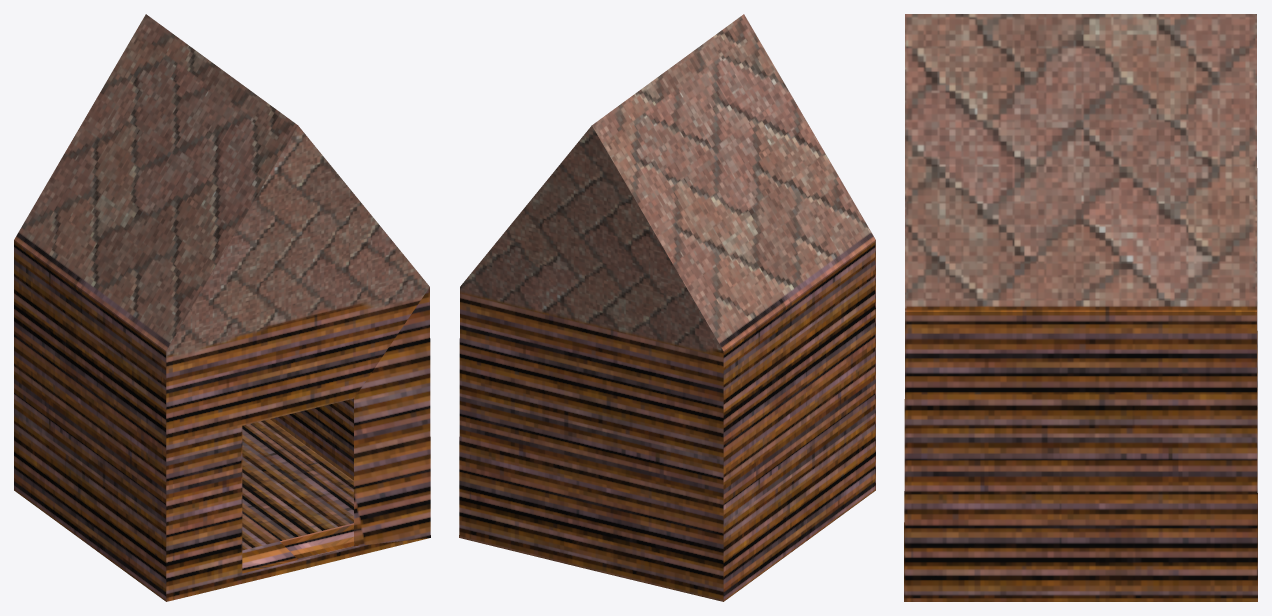
Rendered from shed.fbx.
3 views of the same model, side by side, from view 1: azimuth 30°, elevation 25°; view 2: azimuth 150°, elevation 25°; view 3: azimuth 270°, elevation 25° (orthographic). The views are drawn at different scales.
Visible parts, largest first — view 1: bouda; view 2: bouda; view 3: bouda.
Boxes of the visible parts, left/top/right/bottom form: bouda: left=14, top=14, right=430, bottom=601; bouda: left=459, top=14, right=875, bottom=601; bouda: left=904, top=14, right=1257, bottom=601.
Bounding box in the file's own units: 98.6 × 159 × 99.05.
